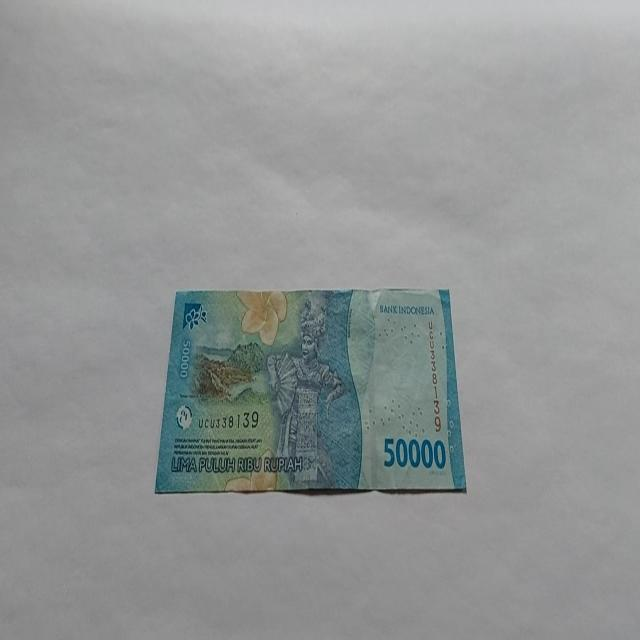lima puluh ribu rupiah: (153, 286, 467, 496)
